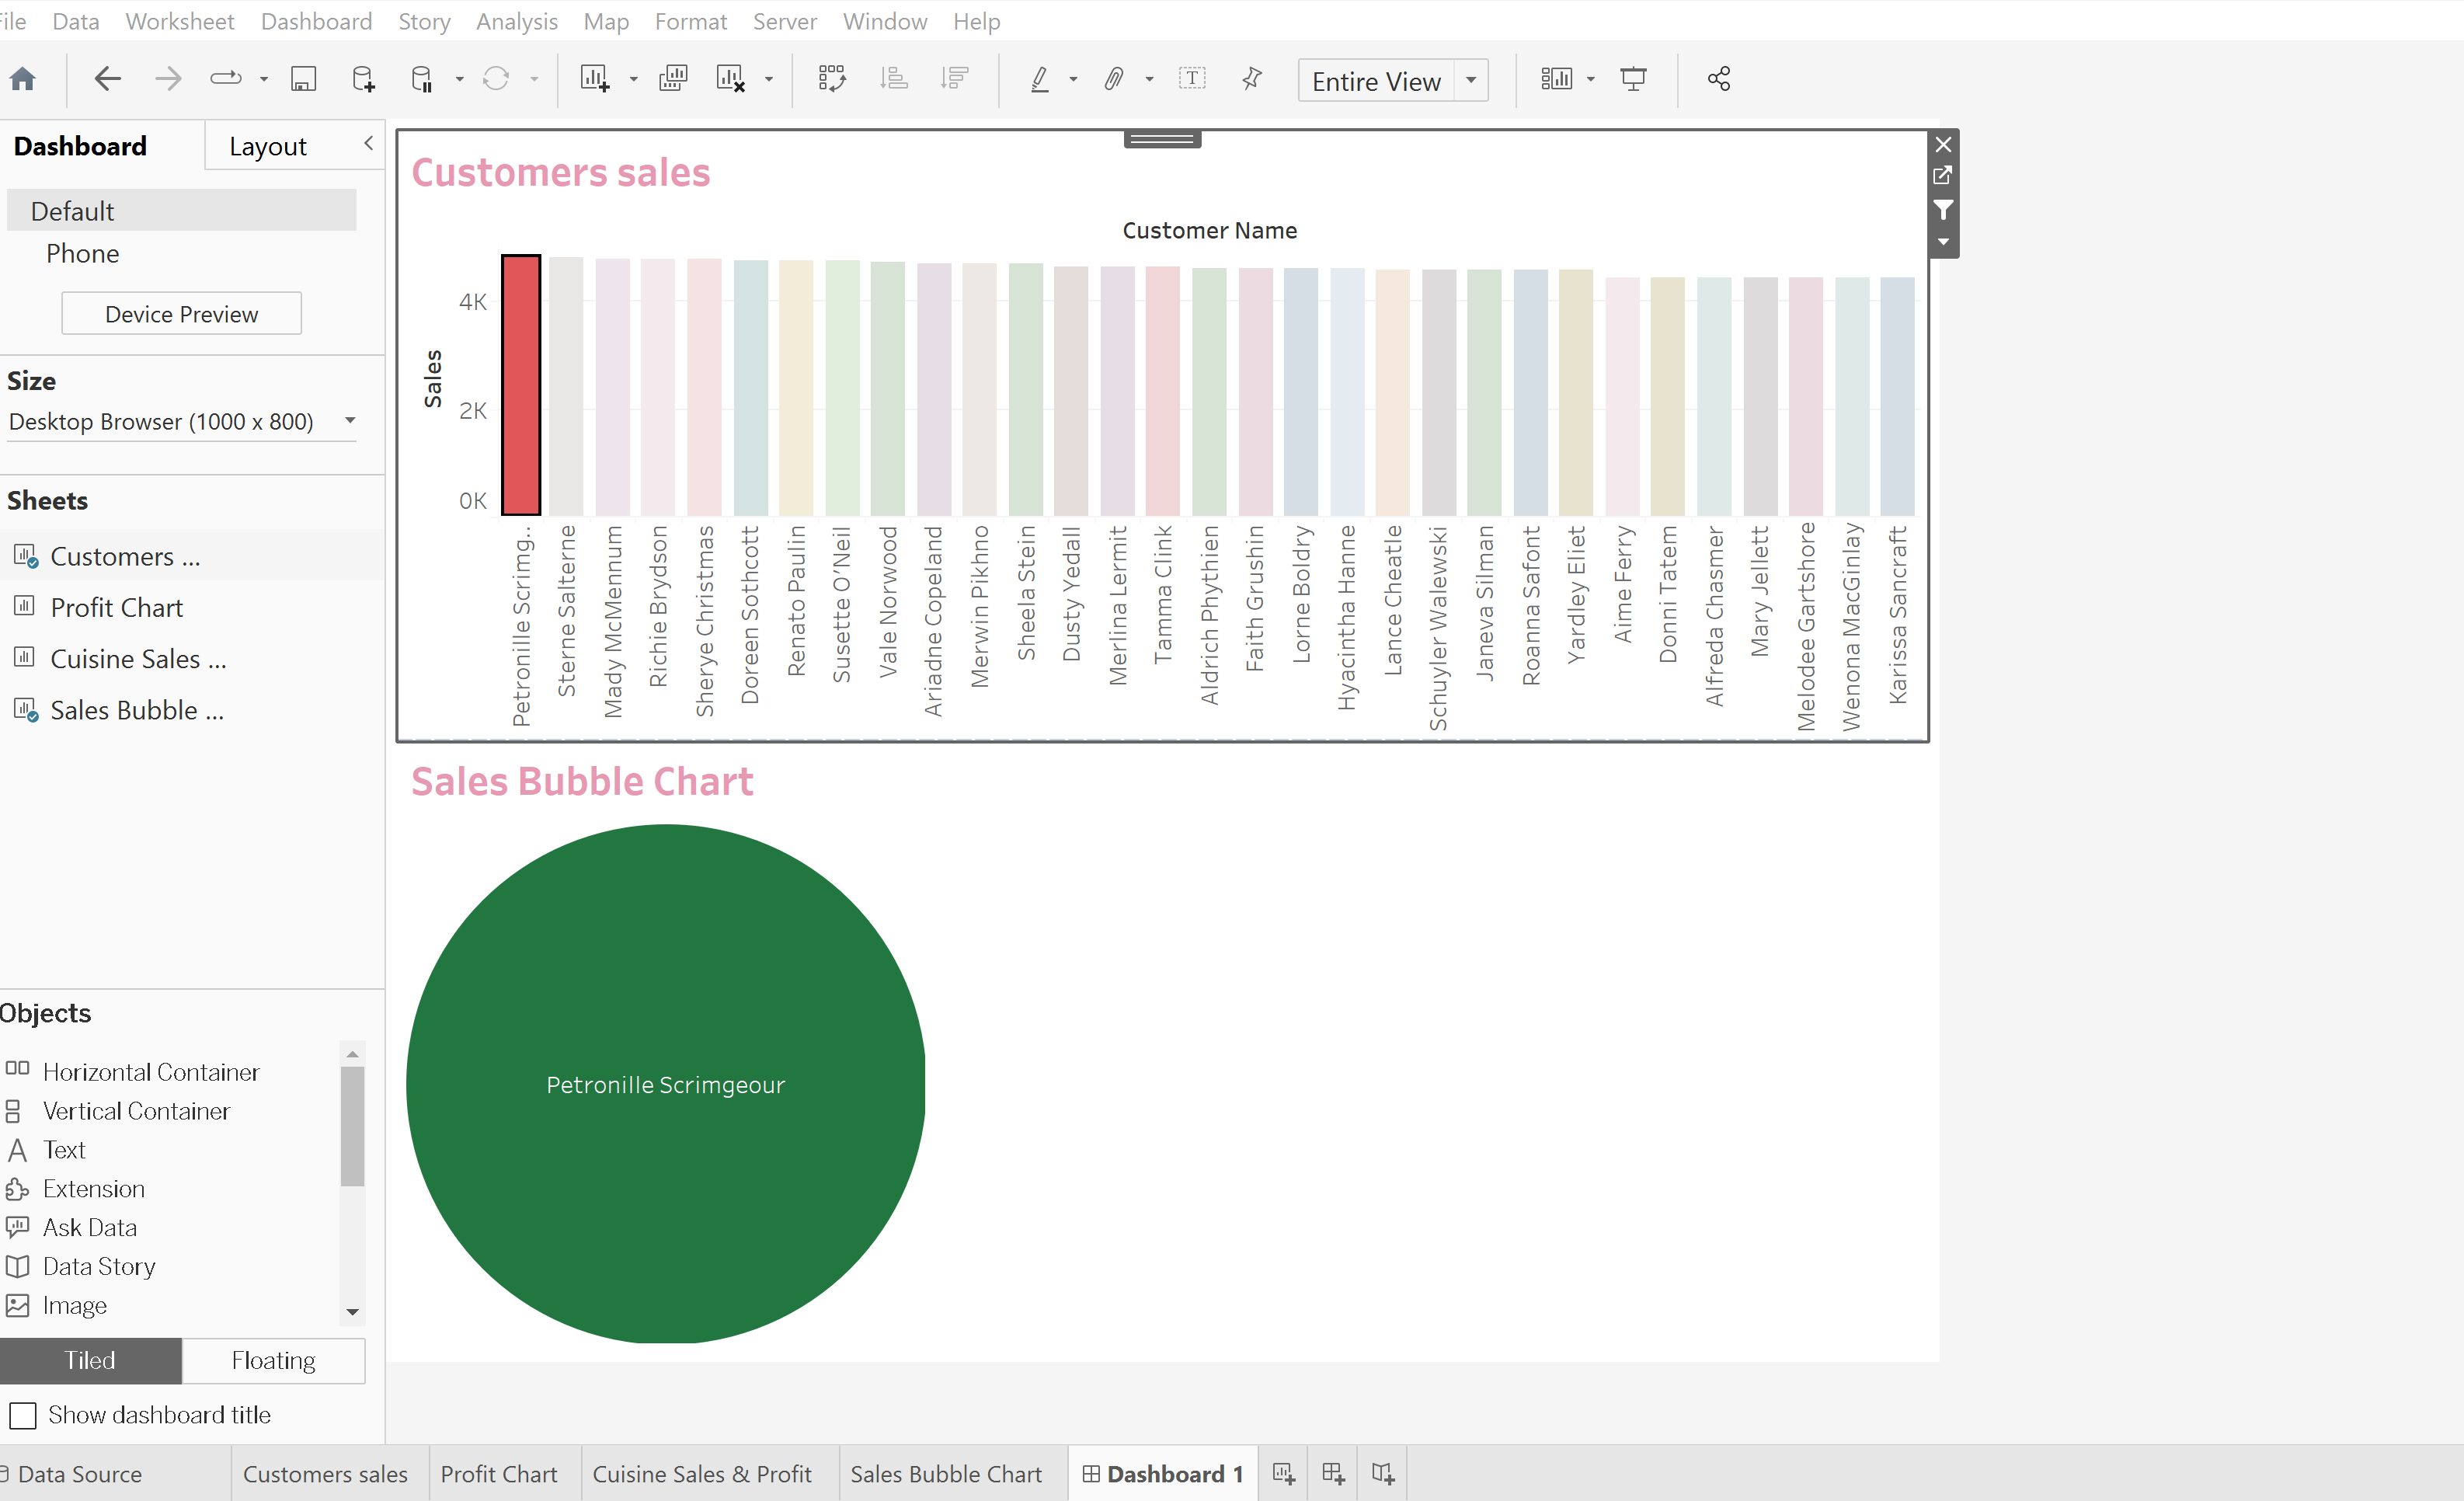

This screenshot's page, from the dashboard's own definition file:
{"tool":"tableau","page":{"name":"Dashboard 1","canvas":[1000,800],"ordinal":0},"visuals":[{"type":"worksheet","title":"Customers sales","mark":"Automatic","rows":["Sales"],"cols":["Customer Name"],"box":[8,8,984,392]},{"type":"worksheet","title":"Sales Bubble Chart","mark":"Circle","box":[8,400,984,392]}]}

Visuals, with their boxes on the page's 1000x800 design canvas (x1, y1, x2, y2). These are canvas units, not pixel positions in the 2464x1501 screenshot, which may show the page scaled, cropped or inside an application window:
"Customers sales" worksheet: 8 8 992 400
"Sales Bubble Chart" worksheet (Circle marks): 8 400 992 792
